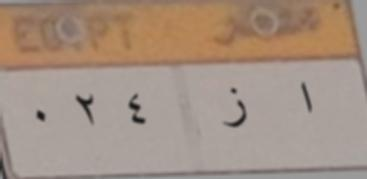0: (27, 99, 55, 137)
2: (66, 83, 106, 134)
4: (116, 86, 156, 138)
alif: (291, 77, 320, 122)
zay: (216, 83, 252, 136)
